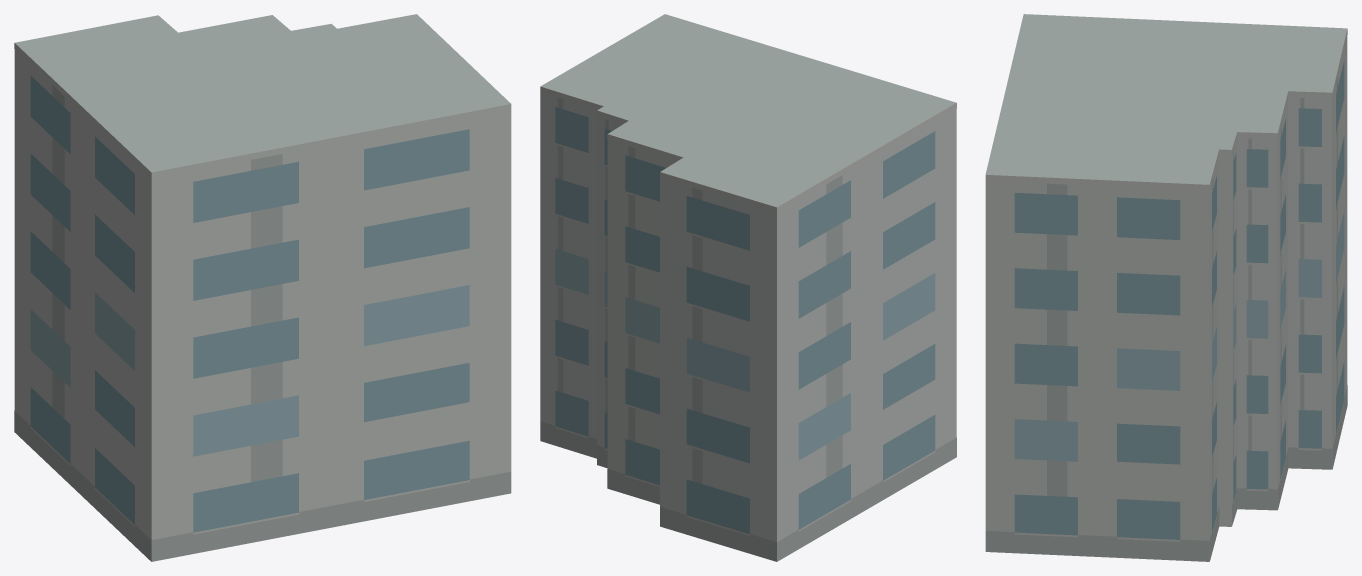
File: survey-upis-32820661.glb
The picture shows the model from 3 angles, left to right: view 1: azimuth 30°, elevation 25°; view 2: azimuth 150°, elevation 25°; view 3: azimuth 270°, elevation 25°; orthographic projection. The views are drawn at different scales.
Parts seen in each view (by area): view 1: survey-upis-32820661.tmp; view 2: survey-upis-32820661.tmp; view 3: survey-upis-32820661.tmp.
Part boxes in pixels (x1=…): survey-upis-32820661.tmp: x1=14, y1=14, x2=511, y2=561; survey-upis-32820661.tmp: x1=540, y1=14, x2=956, y2=561; survey-upis-32820661.tmp: x1=985, y1=14, x2=1347, y2=561.
Size of the model in its own units: 14.43 by 14.85 by 12.93.
